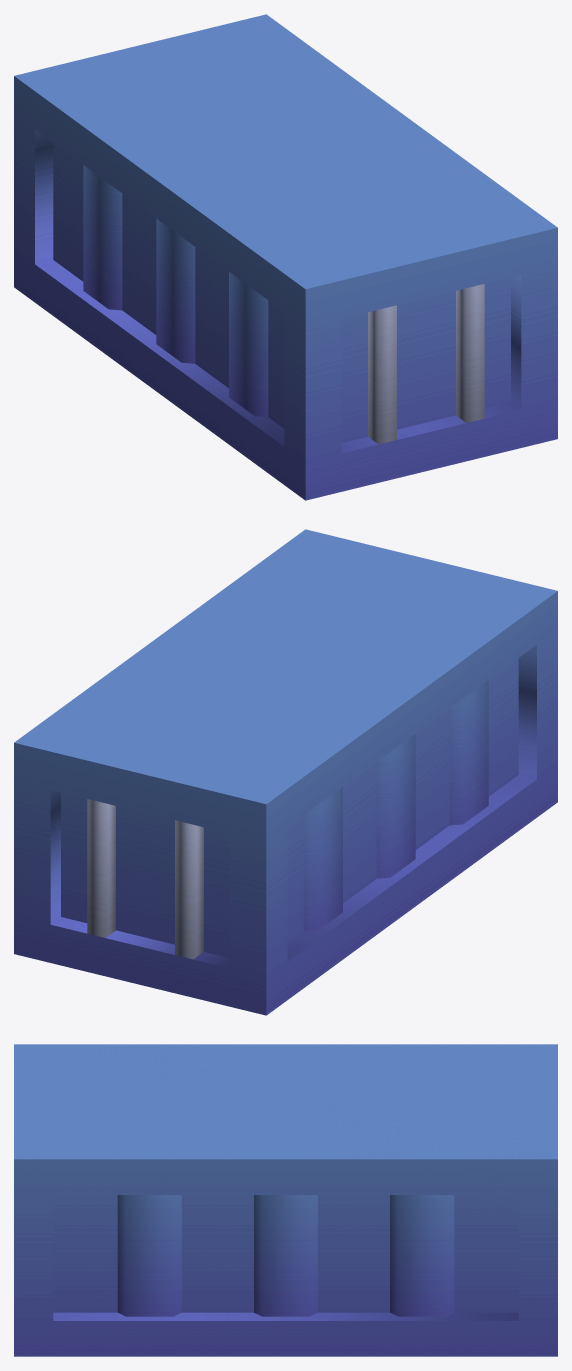
Rendered from cargo-container-b.glb.
The picture shows the model from 3 angles, top to bottom: view 1: azimuth 30°, elevation 25°; view 2: azimuth 150°, elevation 25°; view 3: azimuth 270°, elevation 25°; orthographic projection. The views are drawn at different scales.
Visible parts, largest first — view 1: cargo-container-b; view 2: cargo-container-b; view 3: cargo-container-b.
Part boxes in pixels (<box>): cargo-container-b: <box>14,14,557,500</box>; cargo-container-b: <box>14,529,557,1015</box>; cargo-container-b: <box>14,1044,557,1356</box>.
Size of the model in its own units: 4.69 by 3.75 by 9.38.
1 material, 1 textured.
